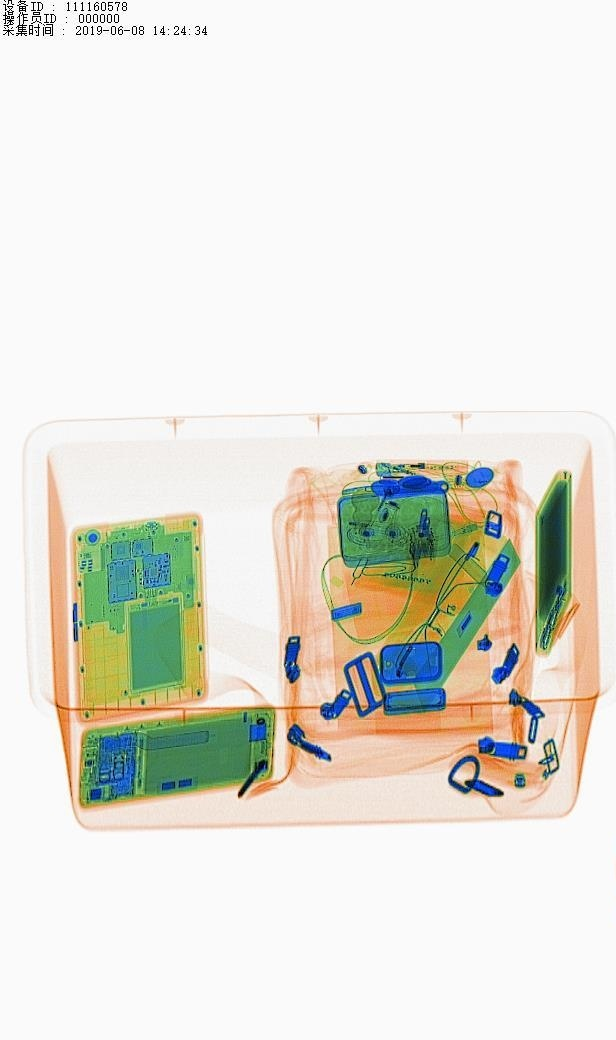NonmetallicFire: (369, 452, 473, 490)
